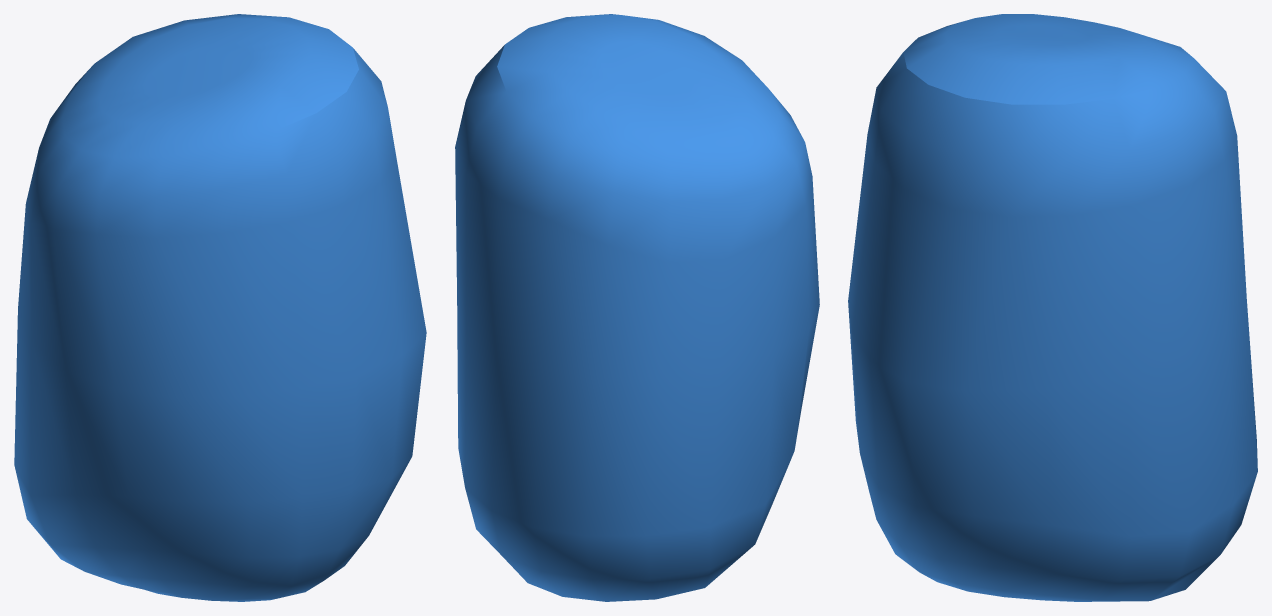
Rendered from FBX_AlcoholSwap.fbx.
The picture shows the model from 3 angles, left to right: view 1: azimuth 30°, elevation 25°; view 2: azimuth 150°, elevation 25°; view 3: azimuth 270°, elevation 25°; orthographic projection. The views are drawn at different scales.
Visible parts, largest first — view 1: SM_AlcoholSwap; view 2: SM_AlcoholSwap; view 3: SM_AlcoholSwap.
Boxes of the visible parts, left/top/right/bottom form: SM_AlcoholSwap: left=14, top=14, right=426, bottom=601; SM_AlcoholSwap: left=455, top=14, right=819, bottom=601; SM_AlcoholSwap: left=848, top=14, right=1257, bottom=601.
Size of the model in its own units: 0.00951 by 0.0144 by 0.00949.
